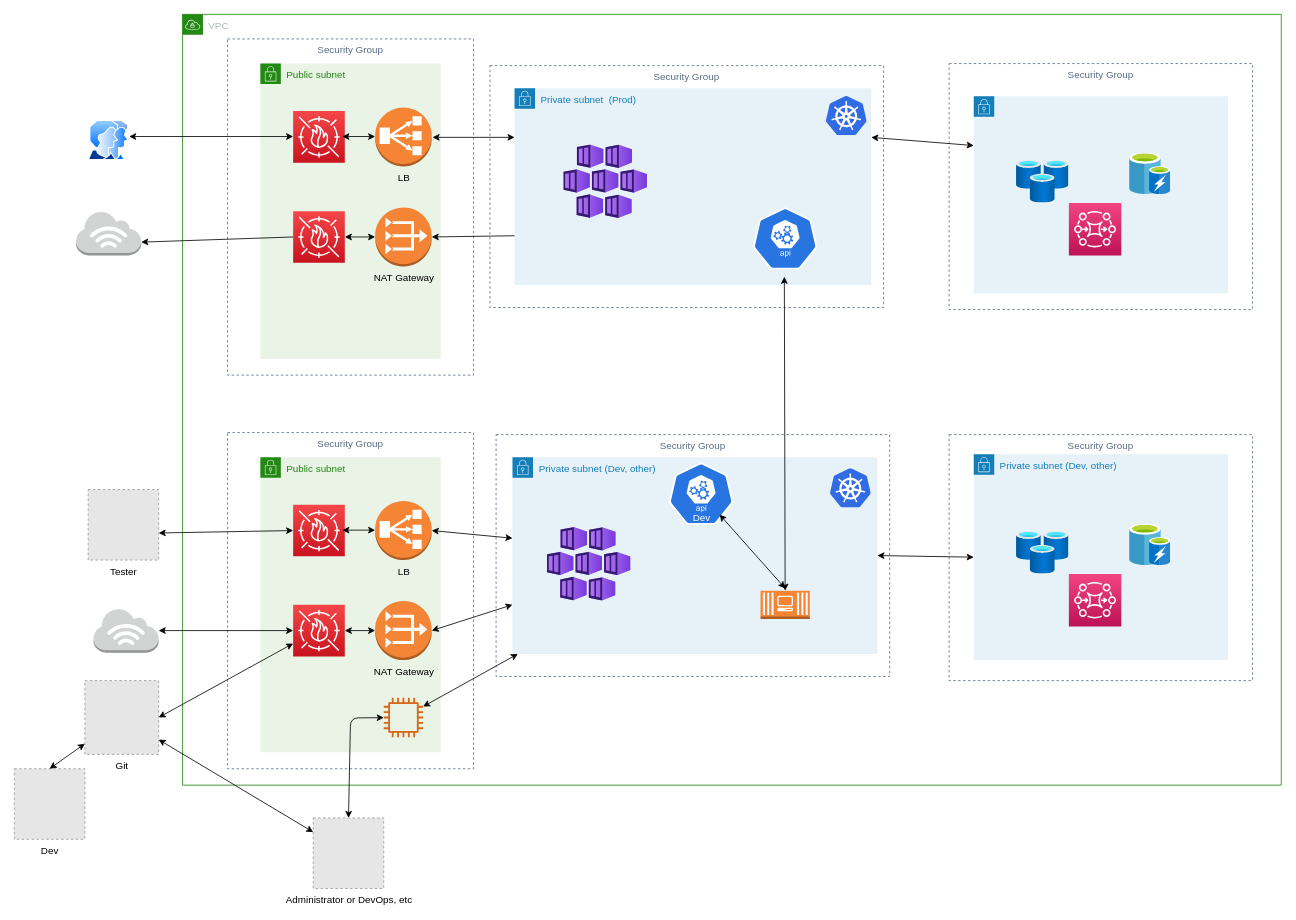
This 1296x920 diagram has some shape labels left out. Grey dashed boxes stand in for pictures. Each missing label, with the box of its shape:
Argocd: (760, 590, 810, 619)
Bastion Instance: (383, 697, 423, 737)
Private subnet (Prod BackingService): (973, 96, 1228, 293)
Prod: (752, 207, 818, 270)
Users: (88, 120, 129, 160)
